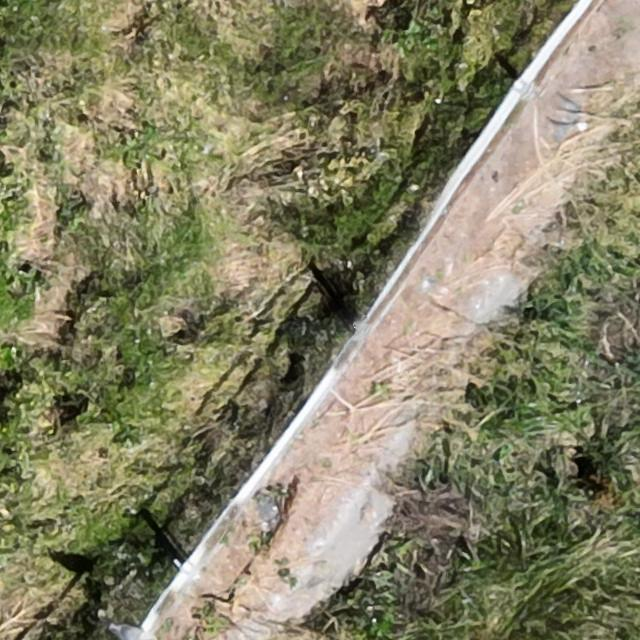umineko: (113, 625, 148, 639)
